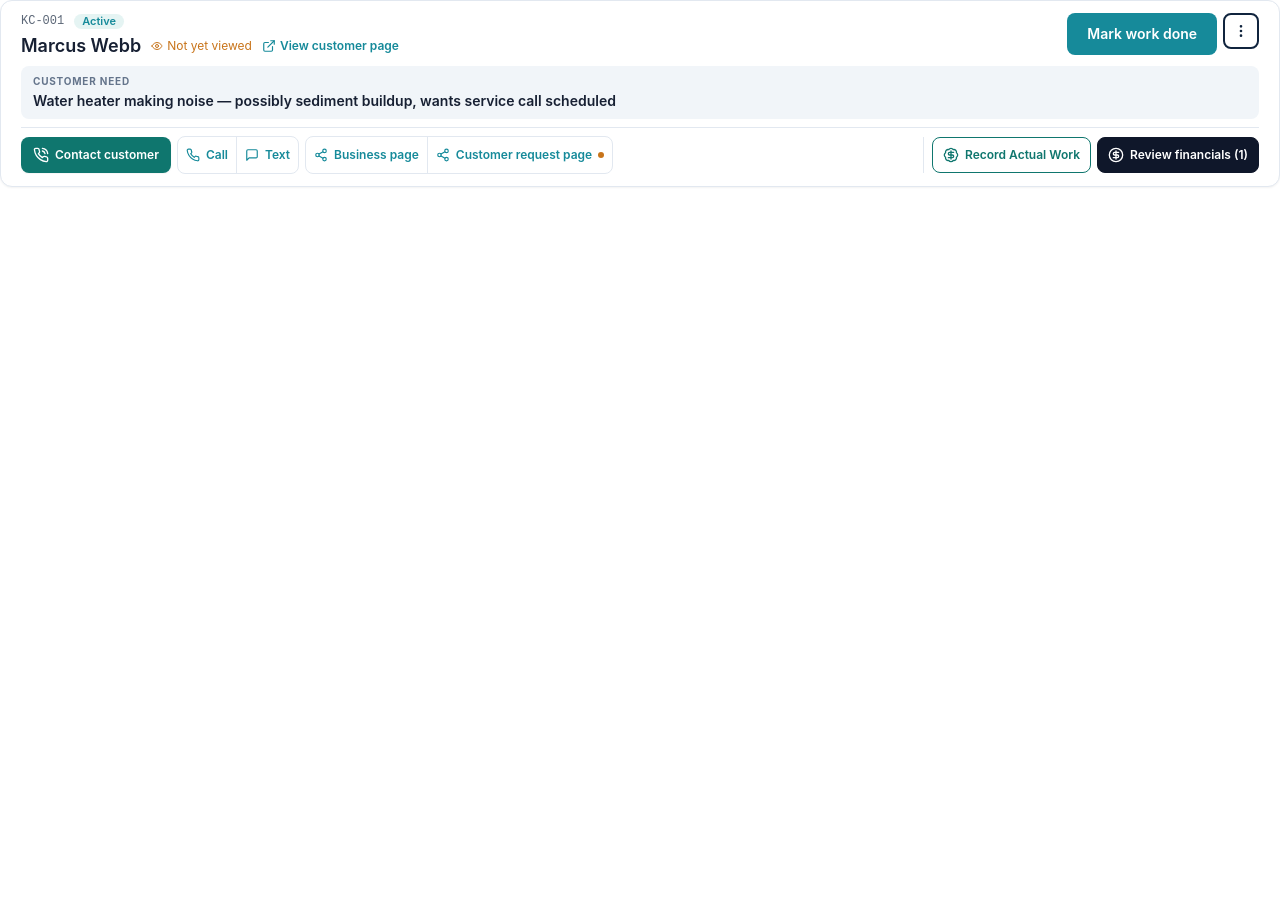
Test: RequestDetailAnchor — compact identity and frequent actions › requires confirmation before Mark work done
Click the button "Mark work done".
click(1142, 34)  # box [1067, 13, 1217, 55]
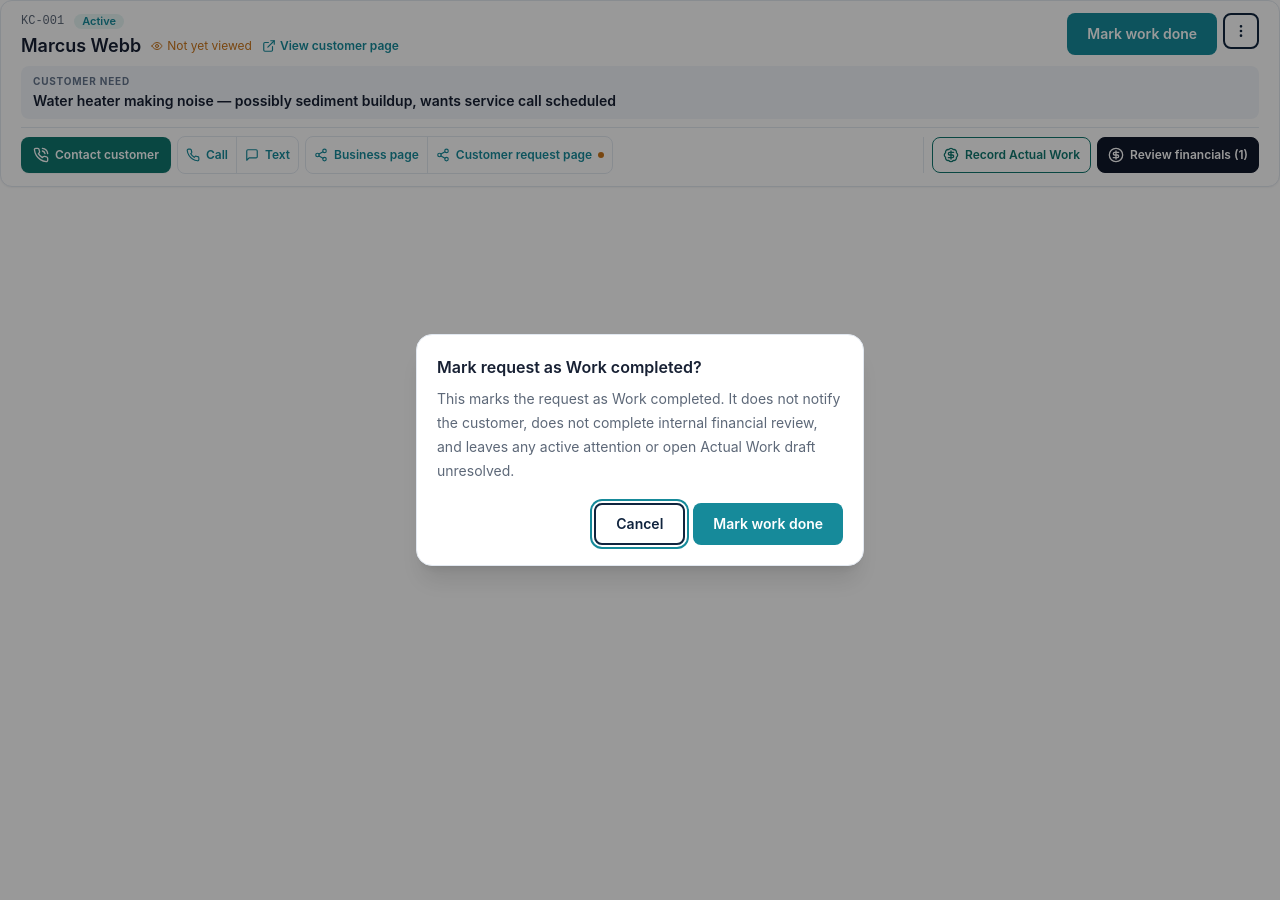
Expected: the heading "Mark request as Work completed?" is shown, [437, 357, 702, 377]
Expected: the text "does not notify the customer" is shown, [437, 390, 840, 479]
